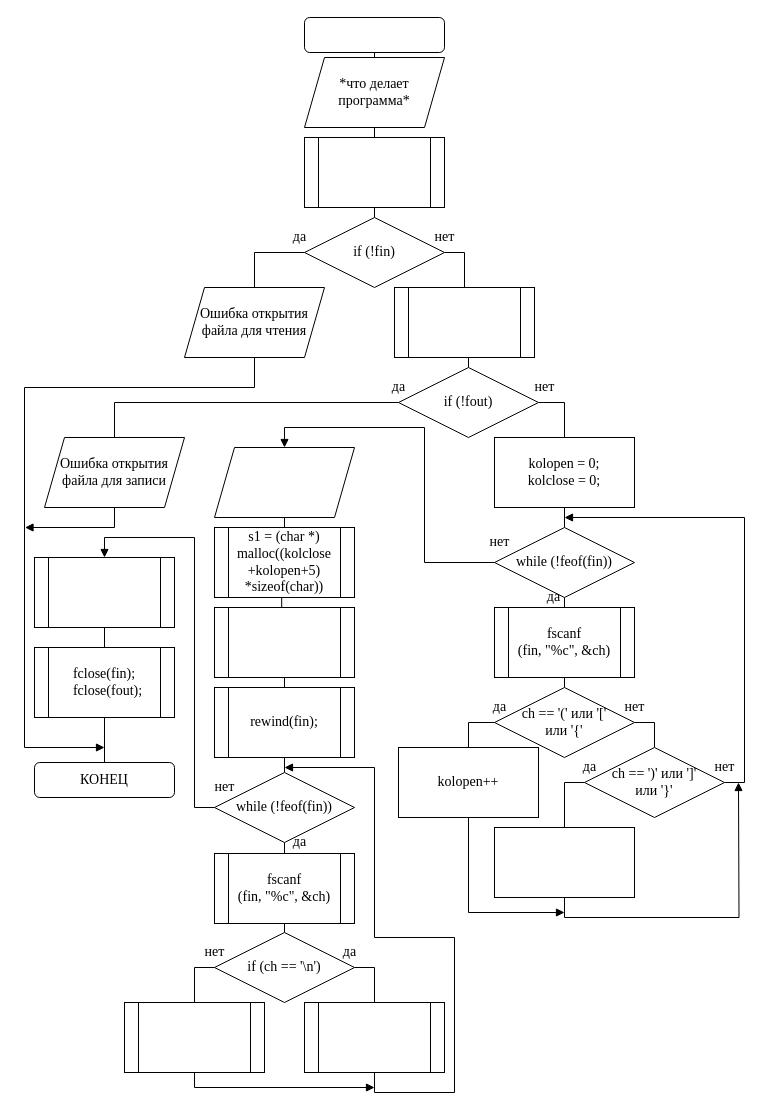
Image size: 770x1118. Some labels were removed from this diagram. The centre of each missing label's shape, as x and y in pixels:
fin = fopen ("text_in.txt","r"): the point at 374,172
fout = fopen ("text_out.txt","w"): the point at 464,322
fprintf (fout, "%c", ch): the point at 194,1037
fprintf (fout, "%s", s1): the point at 374,1037
fprintf (fout, "%s", s1);: the point at 104,592
kolclose++: the point at 564,862
kolopen kolclose: the point at 284,482
sprintf (s1, " %d %d\n", kolopen,kolclose): the point at 284,642
НАЧАЛО: the point at 374,34
